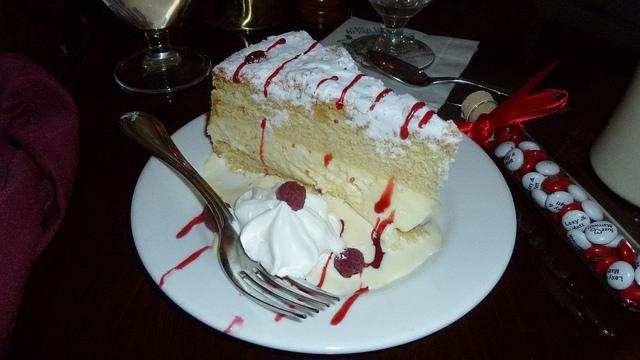raspberry: (334, 248, 366, 278), (276, 181, 306, 211), (244, 50, 266, 63)
